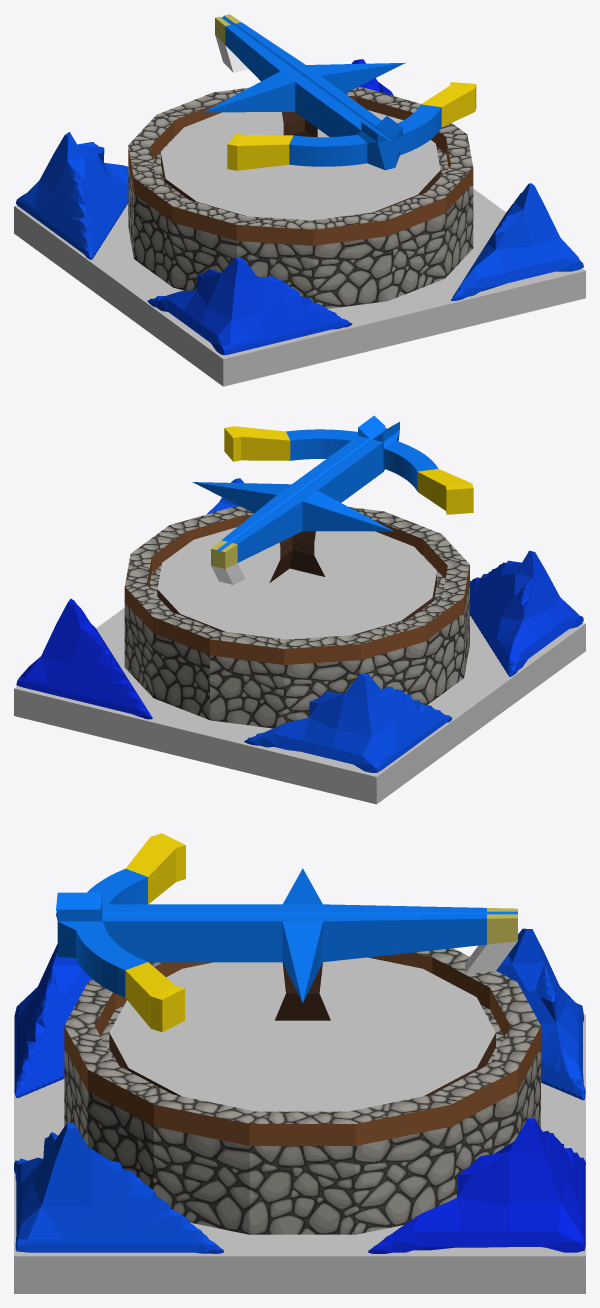
The model's file is CrossbowIcelevel2.fbx.
3 renders of one model, top to bottom at view 1: azimuth 30°, elevation 25°; view 2: azimuth 150°, elevation 25°; view 3: azimuth 270°, elevation 25°, orthographic. The views are drawn at different scales.
Visible parts, largest first — view 1: Cylinder.002, Cube.011, Cube.009, Cylinder.001, Cone.001, Cone.002, Cone, Cube.010; view 2: Cylinder.002, Cube.011, Cylinder.001, Cube.009, Cone.002, Cone.001, Cone.003, Cube.010; view 3: Cylinder.002, Cylinder.001, Cube.009, Cube.011, Cone.003, Cone, Cone.002, Cone.001, Cube.010.
Part boxes in pixels (bbox=[...]): Cylinder.002: bbox=[128, 87, 473, 308]; Cube.011: bbox=[14, 188, 585, 386]; Cube.009: bbox=[203, 14, 476, 170]; Cylinder.001: bbox=[161, 110, 440, 220]; Cone.001: bbox=[147, 257, 352, 355]; Cone.002: bbox=[16, 132, 128, 259]; Cone: bbox=[451, 183, 583, 300]; Cube.010: bbox=[282, 112, 317, 137]; Cylinder.002: bbox=[124, 506, 469, 728]; Cube.011: bbox=[14, 608, 585, 804]; Cylinder.001: bbox=[157, 527, 436, 639]; Cube.009: bbox=[192, 415, 473, 584]; Cone.002: bbox=[244, 673, 452, 772]; Cone.001: bbox=[470, 550, 583, 676]; Cone.003: bbox=[16, 598, 152, 719]; Cube.010: bbox=[269, 531, 324, 582]; Cylinder.002: bbox=[64, 948, 540, 1234]; Cylinder.001: bbox=[109, 957, 495, 1111]; Cube.009: bbox=[56, 833, 517, 1032]; Cube.011: bbox=[14, 1014, 585, 1293]; Cone.003: bbox=[368, 1118, 585, 1253]; Cone: bbox=[14, 1122, 223, 1253]; Cone.002: bbox=[496, 928, 585, 1100]; Cone.001: bbox=[14, 944, 92, 1097]; Cube.010: bbox=[275, 963, 330, 1020].
Bounding box in the file's own units: 277 × 146 × 277.
